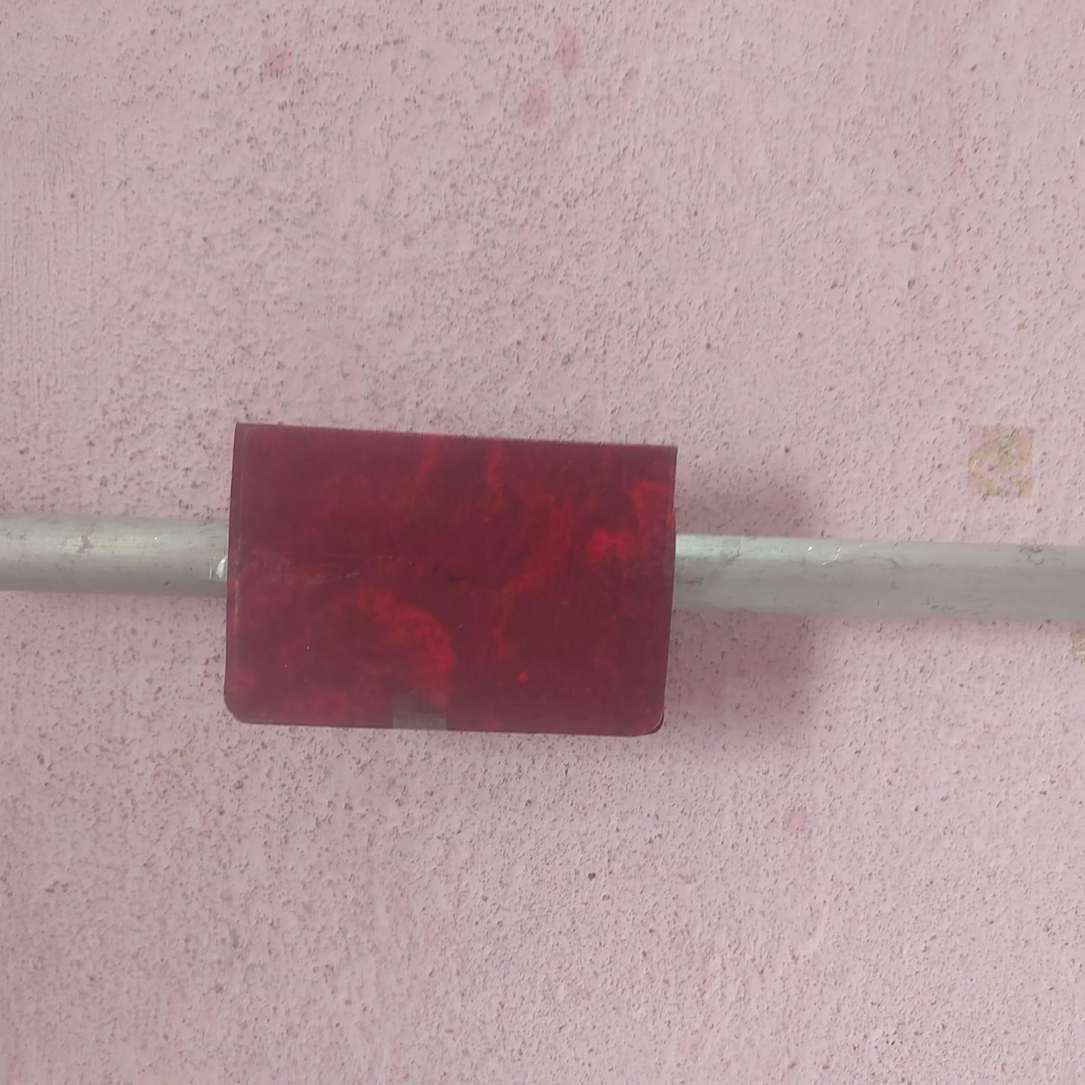wallet: (226, 422, 677, 732)
